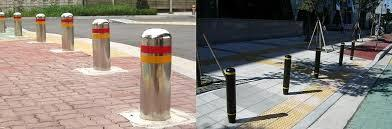Animal: (136, 26, 177, 106), (91, 18, 120, 70), (276, 51, 303, 104), (50, 11, 77, 58), (220, 65, 241, 119), (13, 11, 24, 38), (36, 14, 48, 36), (315, 48, 322, 82)
